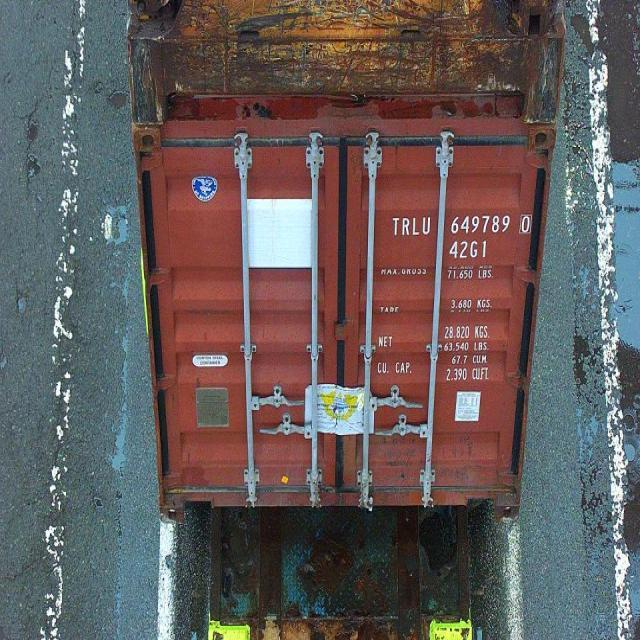ISO: (449, 239, 490, 259)
container_number: (394, 212, 526, 236)
